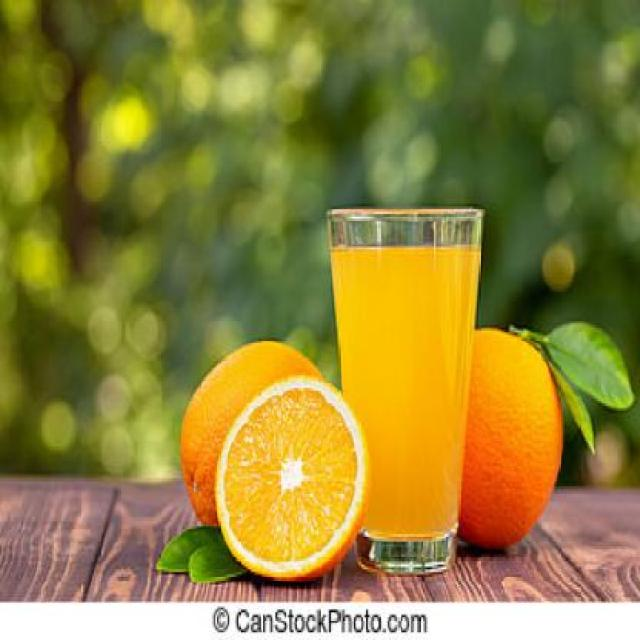Orange: (177, 337, 325, 526), (455, 325, 563, 549)
